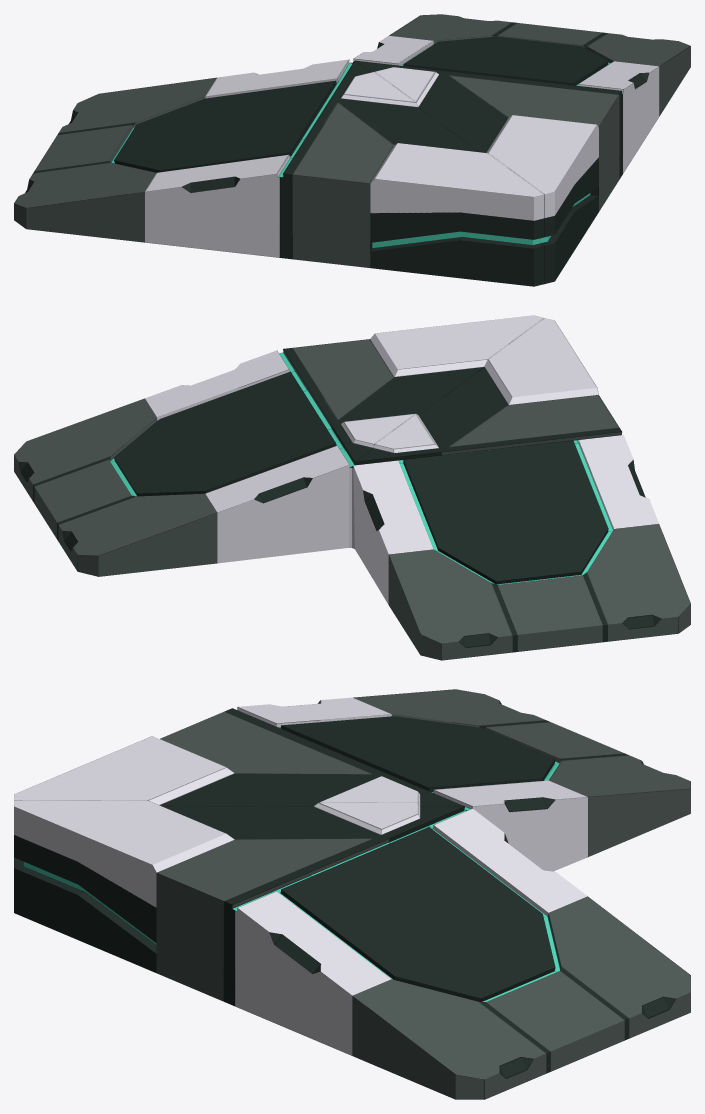
The model's file is Platform Dungeon.fbx.
3 views of the same model, one above another, from view 1: azimuth 30°, elevation 25°; view 2: azimuth 150°, elevation 25°; view 3: azimuth 270°, elevation 25° (orthographic). The views are drawn at different scales.
Parts seen in each view (by area): view 1: Platform Dungeon; view 2: Platform Dungeon; view 3: Platform Dungeon.
Boxes of the visible parts, x1,y1,x2,y2 form: Platform Dungeon: [14, 14, 690, 286]; Platform Dungeon: [14, 315, 690, 660]; Platform Dungeon: [14, 689, 690, 1099].
Size of the model in its own units: 411 by 53 by 305.
